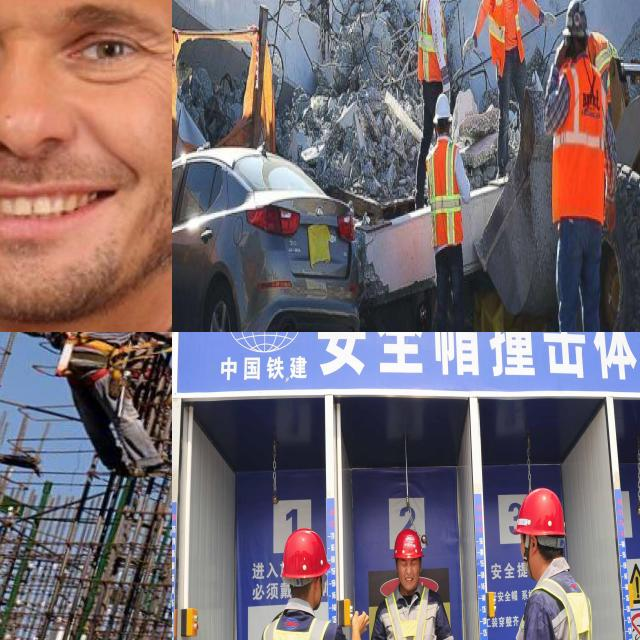Ear-protection: (0, 0, 172, 317)
Harness: (56, 332, 116, 374)
No_Glasses: (0, 0, 172, 92)
face_nomask: (394, 550, 426, 596)
hand_glove: (460, 29, 478, 65), (539, 1, 558, 35)
hand_noglove: (602, 191, 622, 238), (353, 605, 373, 640)
head_helmet: (278, 526, 334, 578), (514, 487, 566, 535), (394, 530, 425, 557), (432, 96, 450, 120)
person: (552, 2, 596, 332), (505, 487, 594, 640), (424, 98, 468, 332), (370, 522, 454, 640), (260, 526, 345, 640), (484, 0, 529, 177), (415, 0, 450, 92)
vest: (519, 567, 594, 640), (564, 65, 600, 206), (381, 585, 450, 640), (426, 148, 461, 245), (418, 0, 445, 78), (491, 0, 520, 55), (592, 32, 615, 62)
